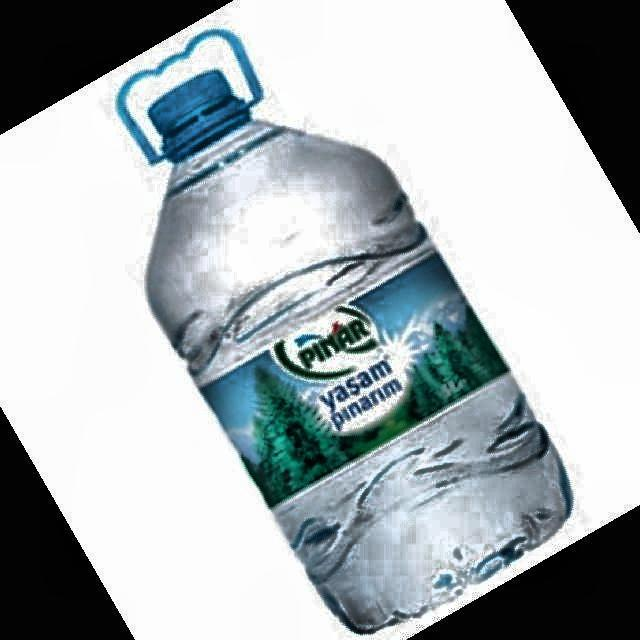plastic: (119, 30, 571, 632)
